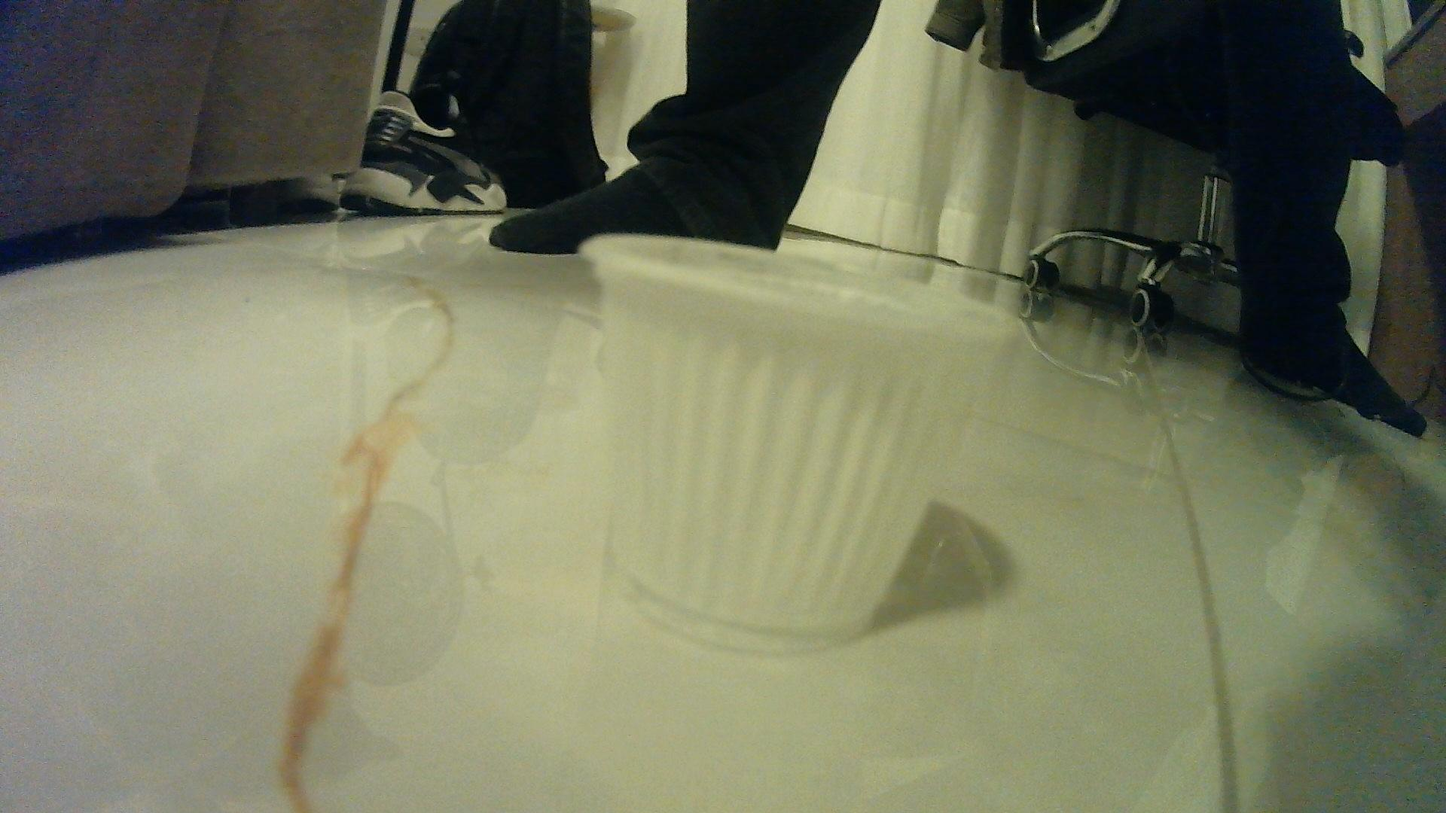planta: (583, 229, 1021, 659)
